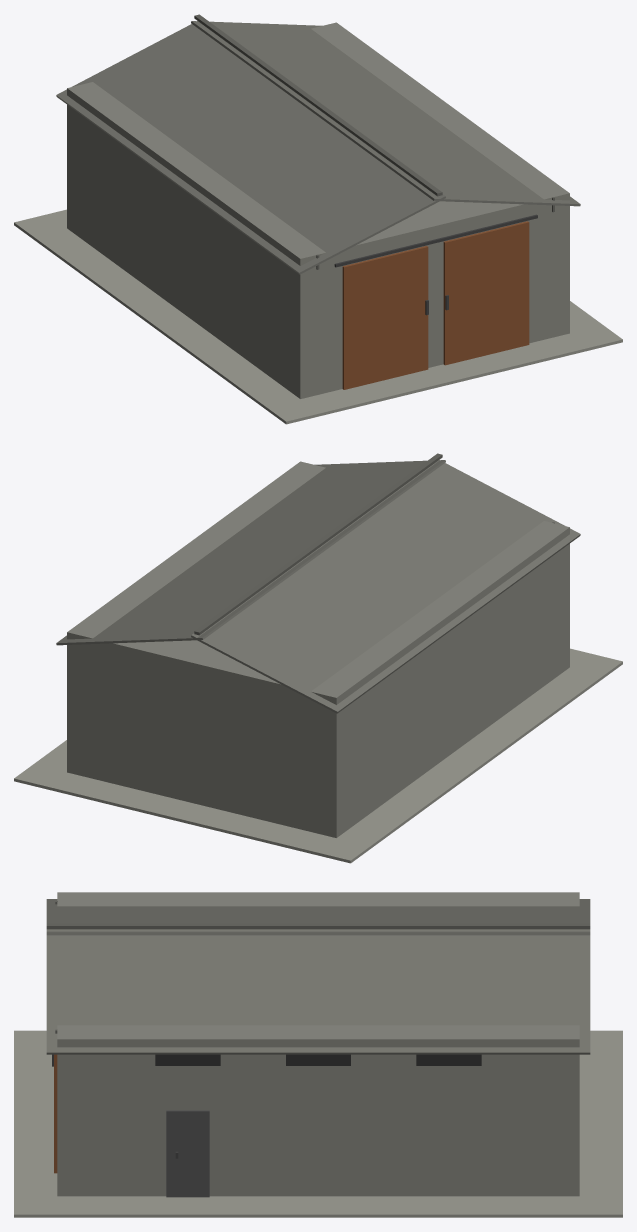
Rendered from warehouse.glb.
The picture shows the model from 3 angles, top to bottom: view 1: azimuth 30°, elevation 25°; view 2: azimuth 150°, elevation 25°; view 3: azimuth 270°, elevation 25°; orthographic projection. The views are drawn at different scales.
Visible parts, largest first — view 1: Mesh_Walls, Mesh_RoofLeftMesh, Mesh_RoofRightMesh, Mesh_ConcretePad, Mesh_DoorRight, Mesh_DoorLeft, Mesh_Ridge, Mesh_DoorRail; view 2: Mesh_Walls, Mesh_RoofLeftMesh, Mesh_RoofRightMesh, Mesh_ConcretePad, Mesh_Ridge; view 3: Mesh_Walls, Mesh_RoofRightMesh, Mesh_ConcretePad, Mesh_RoofLeftMesh, Mesh_SideDoor, Mesh_Ridge, Mesh_Vent1, Mesh_Vent3, Mesh_Vent2, Mesh_DoorRight.
Boxes of the visible parts, box(x1,y1,x2,y2) form: Mesh_Walls: box(67, 22, 569, 398); Mesh_RoofLeftMesh: box(56, 21, 445, 274); Mesh_RoofRightMesh: box(191, 21, 580, 206); Mesh_ConcretePad: box(14, 209, 622, 424); Mesh_DoorRight: box(443, 221, 529, 365); Mesh_DoorLeft: box(342, 246, 428, 389); Mesh_Ridge: box(194, 14, 442, 196); Mesh_DoorRail: box(334, 214, 537, 267); Mesh_Walls: box(67, 461, 569, 837); Mesh_RoofLeftMesh: box(191, 460, 580, 713); Mesh_RoofRightMesh: box(56, 460, 445, 645); Mesh_ConcretePad: box(14, 648, 622, 863); Mesh_Ridge: box(194, 453, 442, 635); Mesh_Walls: box(57, 892, 579, 1196); Mesh_RoofRightMesh: box(46, 929, 590, 1054); Mesh_ConcretePad: box(14, 1030, 622, 1217); Mesh_RoofLeftMesh: box(46, 899, 590, 935); Mesh_SideDoor: box(166, 1110, 209, 1197); Mesh_Ridge: box(46, 923, 590, 929); Mesh_Vent1: box(416, 1054, 481, 1065); Mesh_Vent3: box(155, 1054, 220, 1065); Mesh_Vent2: box(286, 1054, 350, 1065); Mesh_DoorRight: box(54, 1054, 57, 1173).
Bounding box in the file's own units: 10 × 5.1 × 14.
